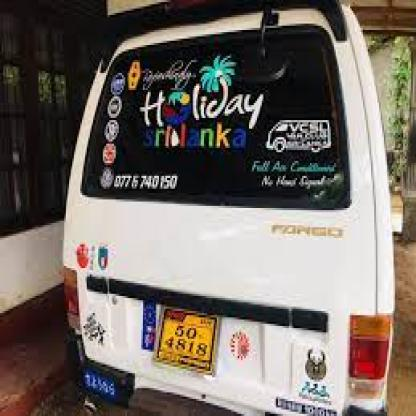number plate: (162, 321, 214, 362)
van back: (64, 0, 396, 416)
